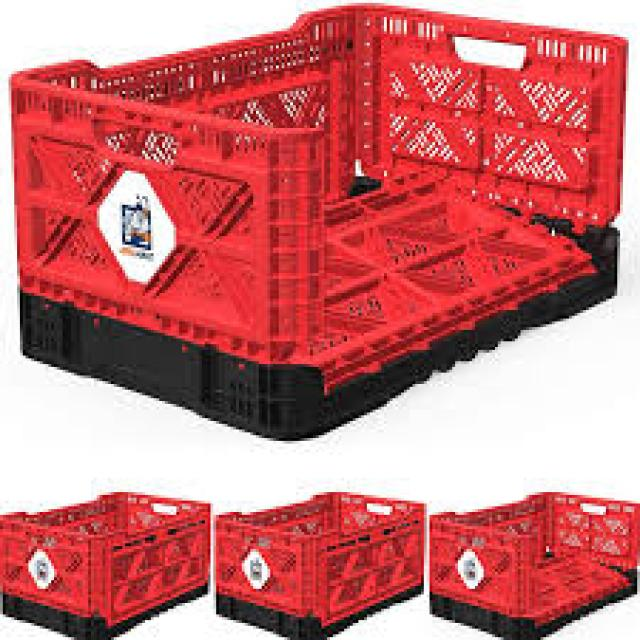basket: (215, 491, 430, 640), (1, 495, 210, 640), (432, 495, 640, 640)
